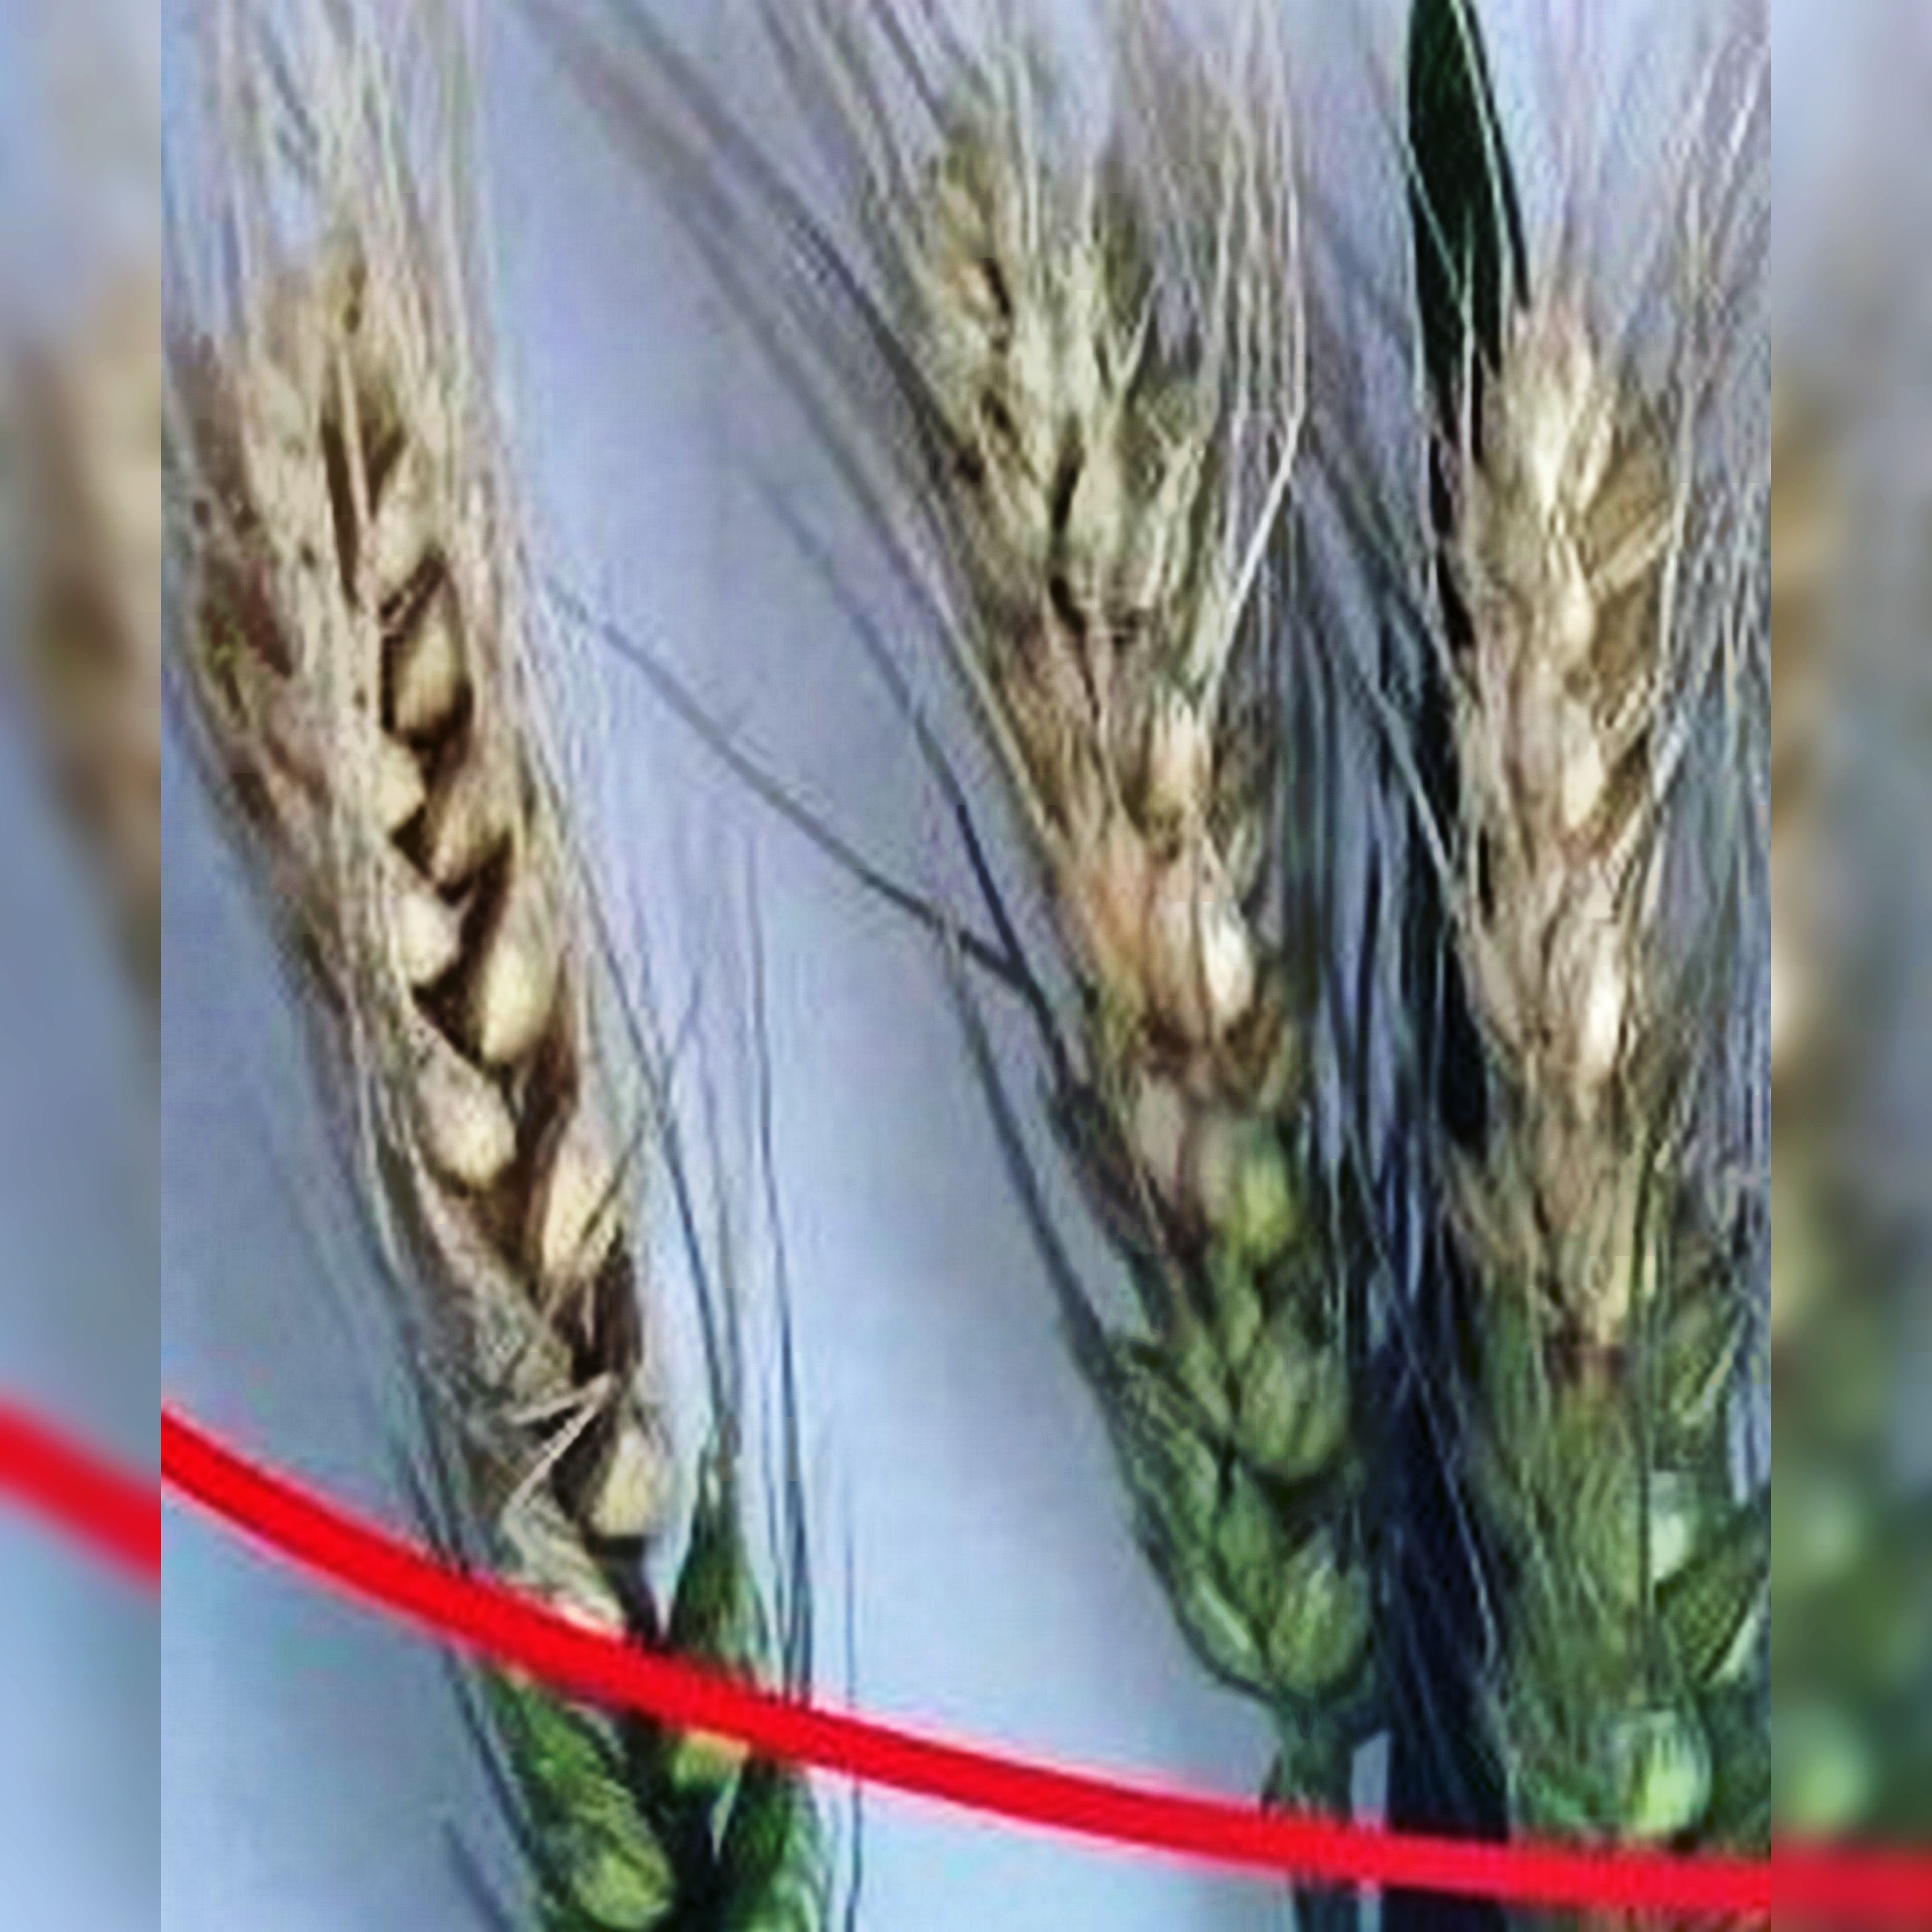Wheat scab: (814, 134, 1399, 1707), (1394, 265, 1796, 1845)
